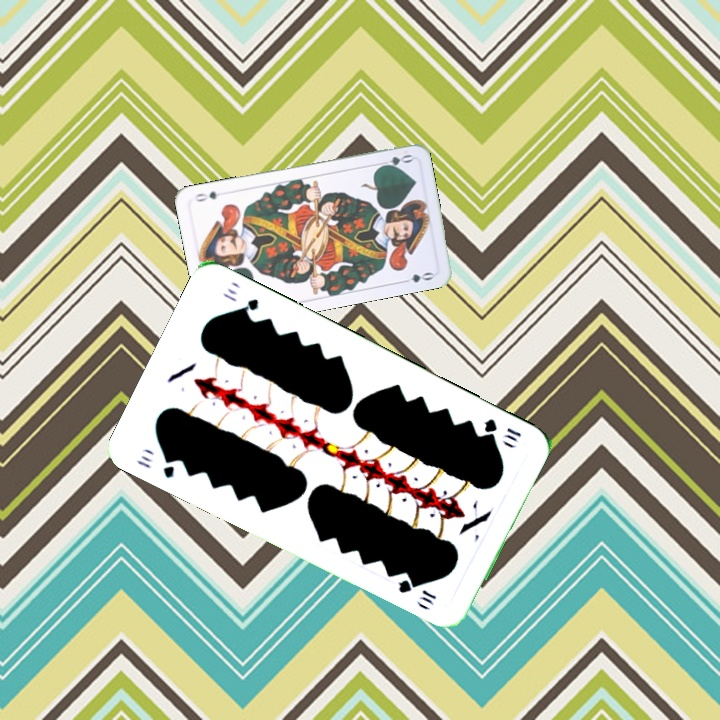G10: (132, 451, 179, 481), (480, 414, 524, 446)
GO: (374, 150, 415, 171)
